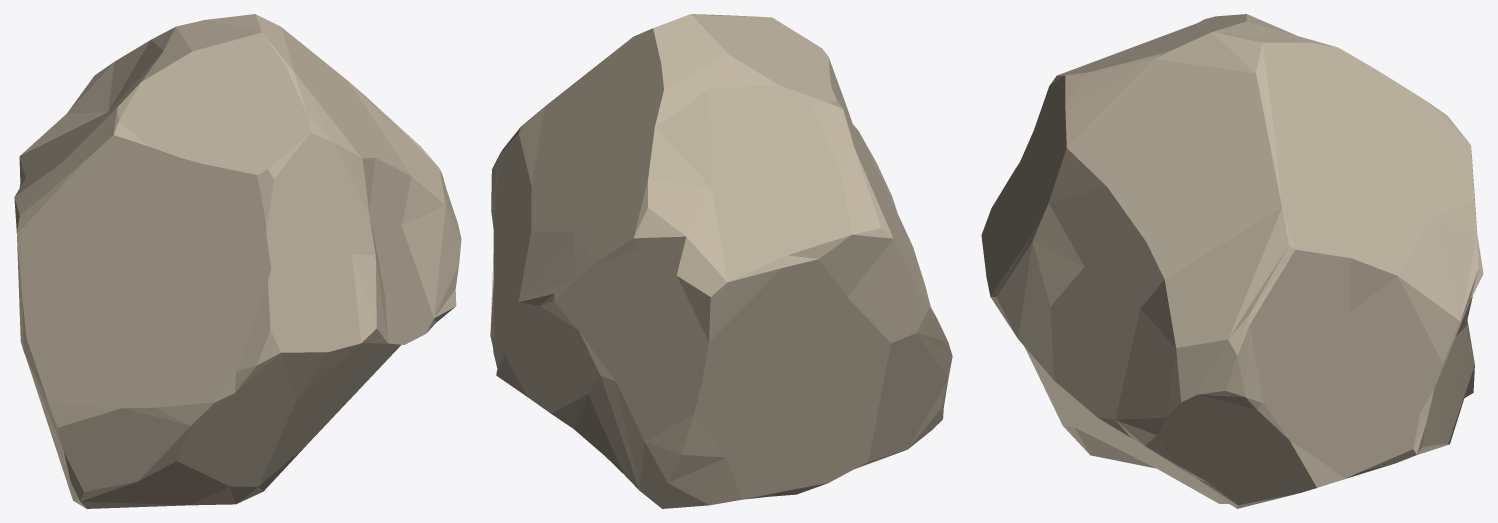
The model's file is kamien2.fbx.
3 renders of one model, left to right at view 1: azimuth 30°, elevation 25°; view 2: azimuth 150°, elevation 25°; view 3: azimuth 270°, elevation 25°, orthographic. The views are drawn at different scales.
Visible parts, largest first — view 1: Cube.004; view 2: Cube.004; view 3: Cube.004.
Part boxes in pixels (x1,y1,x2,y2): Cube.004: (14,14,461,508); Cube.004: (490,14,952,508); Cube.004: (981,14,1483,508).
Size of the model in its own units: 876 by 818 by 786.
